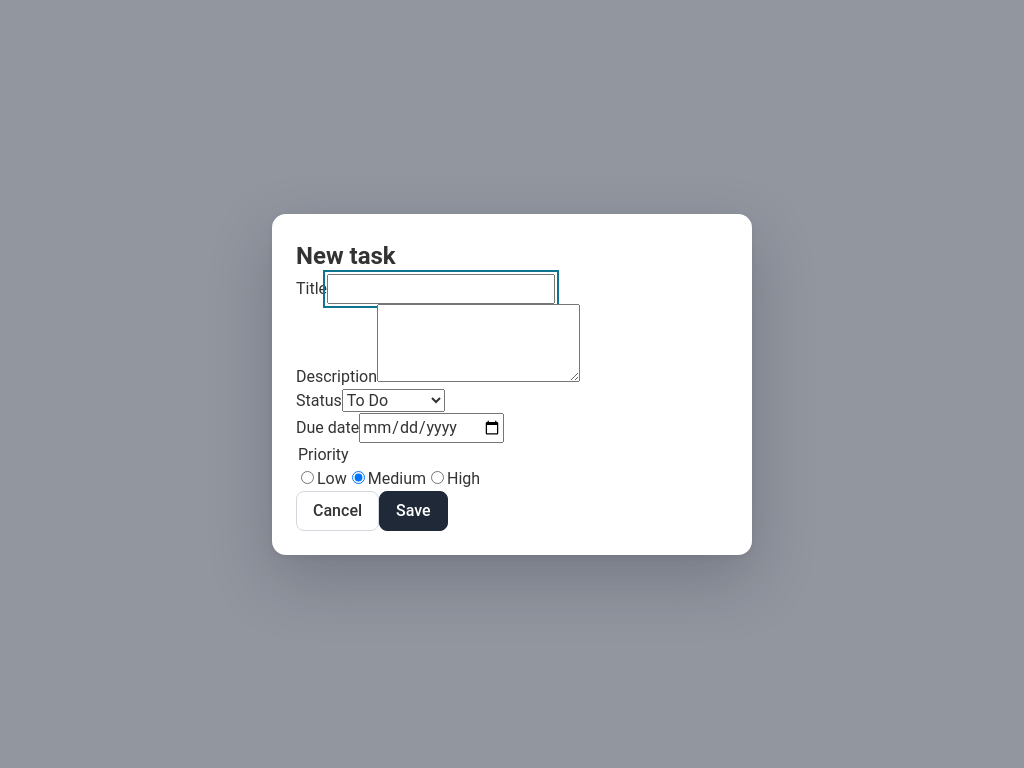
TaskFormDialog › clears the title error once the user types
Click the button "Save". click: (413, 510)
box: [379,490,448,530]
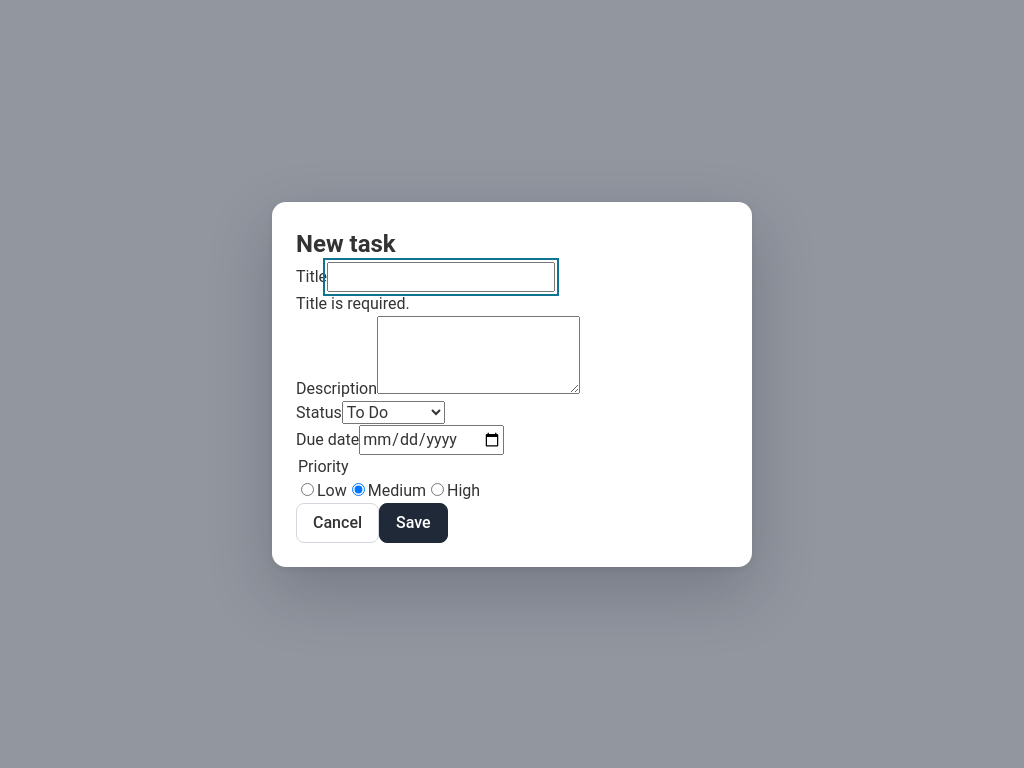
Check: the text "Title is required." is shown, box [296,294,410,312]
Type "B" into the field labelled "Title". click: (441, 276)
box: [327,262,555,292]
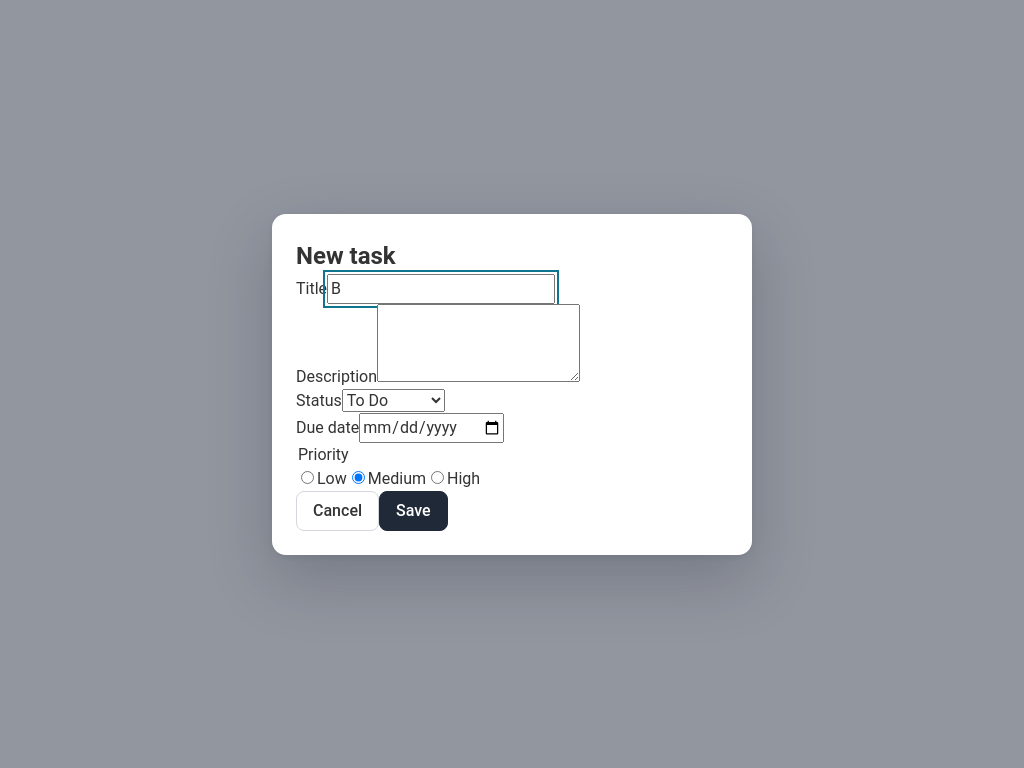
Check: the text "Title is required." is gone
